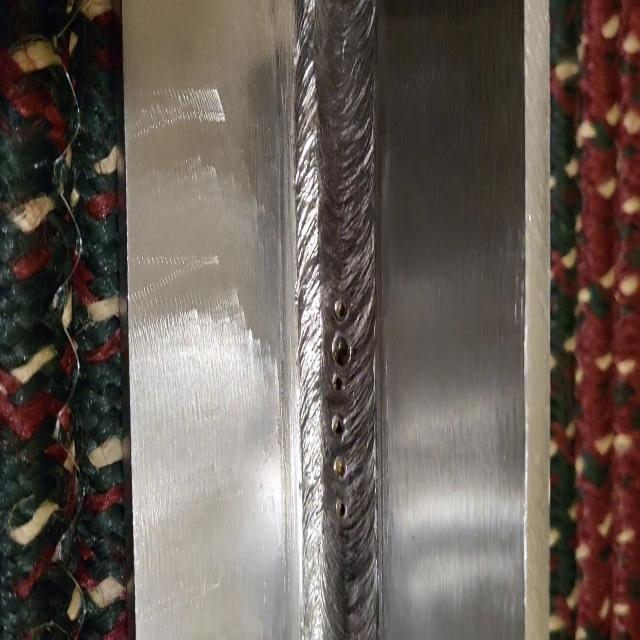Welding Line: (303, 11, 382, 635)
Workpiece: (126, 2, 551, 640)
porosity: (330, 294, 352, 521)
